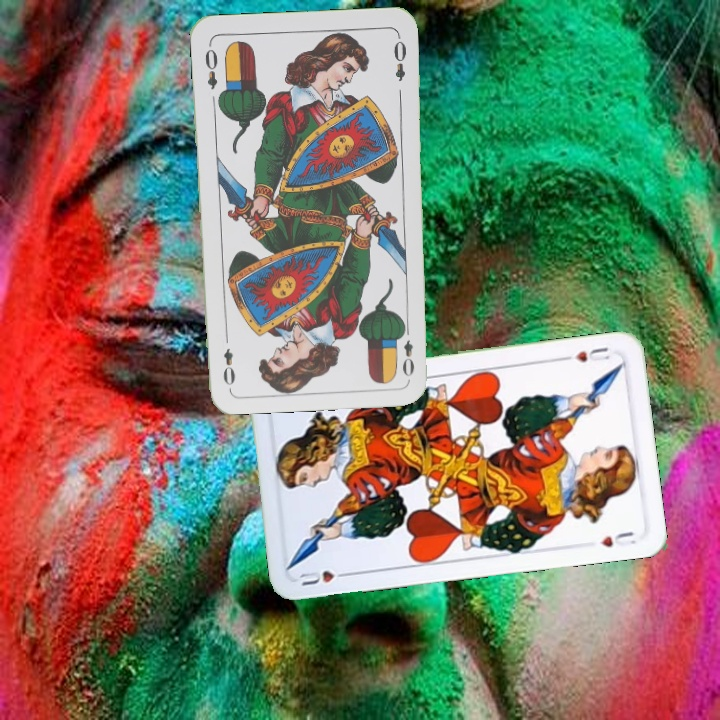EO: (396, 321, 417, 379), (200, 40, 220, 92)
HU: (295, 566, 353, 588), (559, 343, 613, 364)
